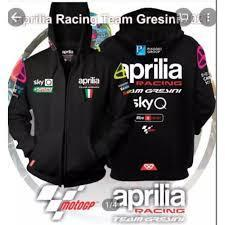sweater: (7, 3, 124, 183), (104, 10, 215, 181)
